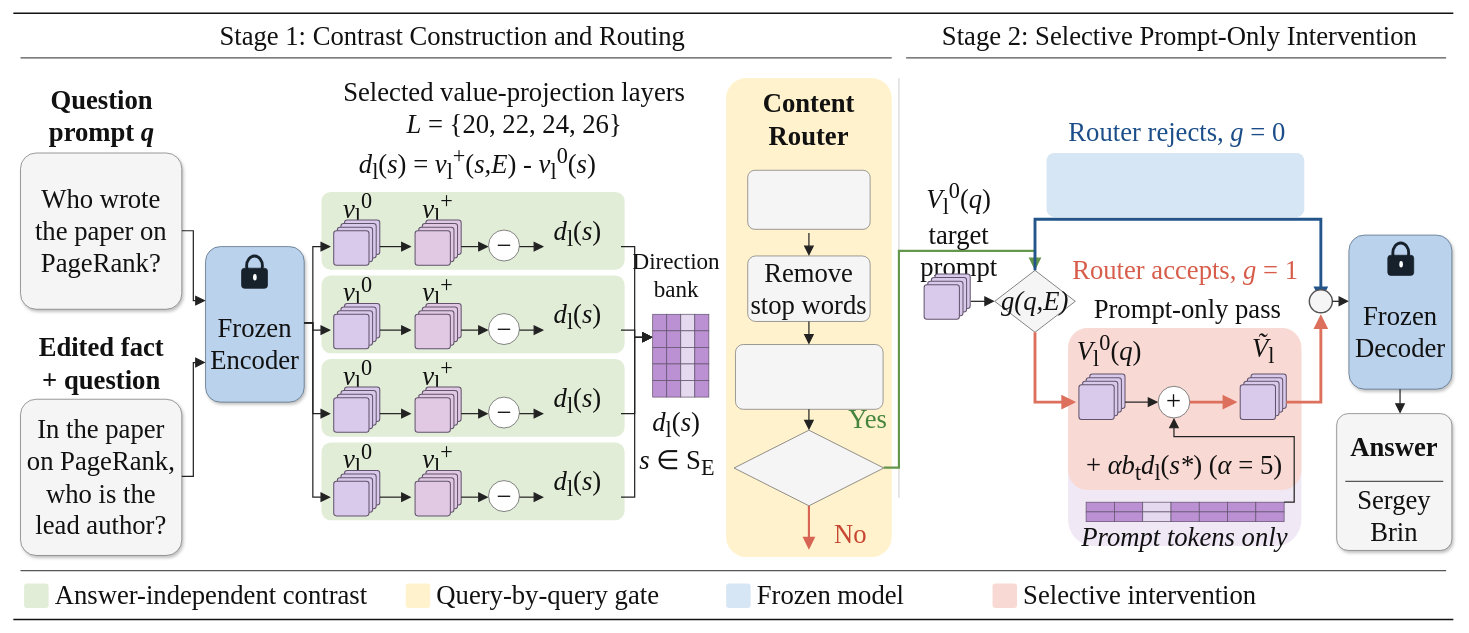
The diagram is 1469 pixels wide and 633 high, and some of its shapes have lost their labels. Each missing label, with the centre of its shape:
Max Jaccard ρ(q,E): point 809,376
Tokenize q , { s }: point 808,199
Unmodified activation path (bypass): point 1175,185
ρ ≥ 0.35: point 808,467
